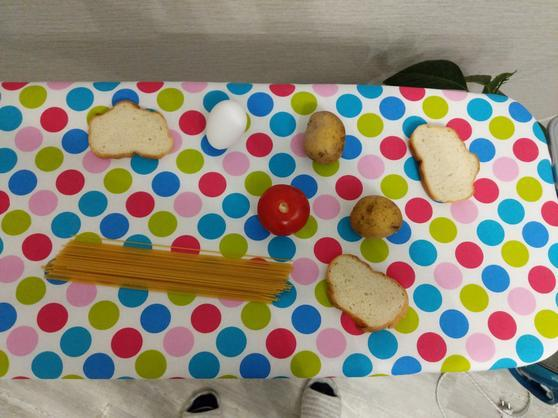egg: (195, 96, 254, 159)
potato: (299, 108, 351, 166), (345, 195, 404, 242)
spaghetti: (44, 231, 294, 306)
tomato: (255, 181, 313, 238)
white_bread: (324, 251, 412, 332), (404, 119, 484, 206), (83, 97, 172, 161)
